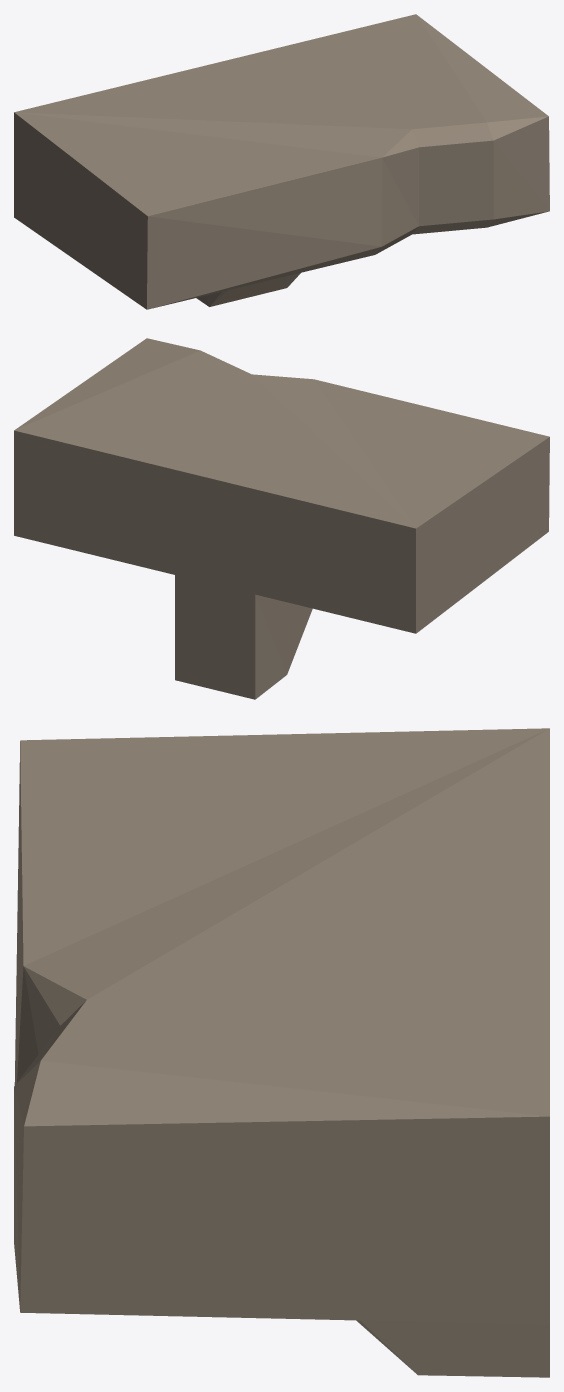
File: top_shelf.glb
3 views of the same model, one above another, from view 1: azimuth 30°, elevation 25°; view 2: azimuth 150°, elevation 25°; view 3: azimuth 270°, elevation 25° (orthographic). The views are drawn at different scales.
Parts seen in each view (by area): view 1: top_shelf; view 2: top_shelf; view 3: top_shelf.
Boxes of the visible parts, box(x1,y1,x2,y2) form: top_shelf: box(14, 14, 549, 309); top_shelf: box(14, 338, 549, 699); top_shelf: box(14, 728, 549, 1377).
Size of the model in its own units: 0.48 by 0.24 by 0.28.
